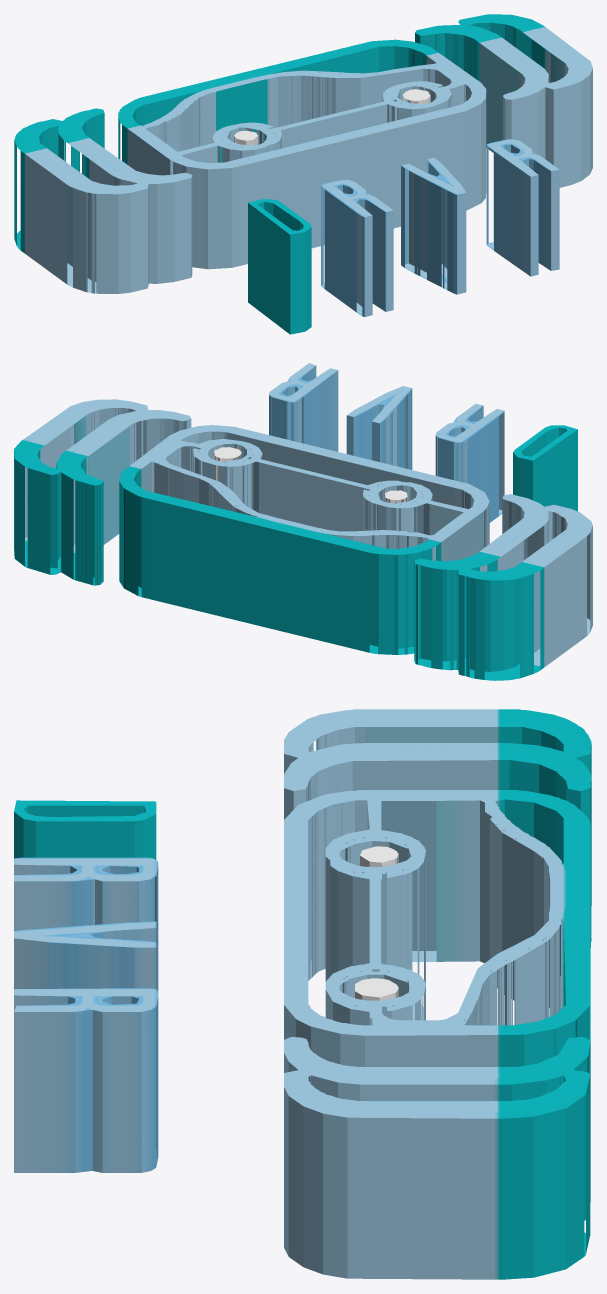
The model's file is rvr (2).fbx.
3 renders of one model, top to bottom at view 1: azimuth 30°, elevation 25°; view 2: azimuth 150°, elevation 25°; view 3: azimuth 270°, elevation 25°, orthographic. The views are drawn at different scales.
Visible parts, largest first — view 1: node_id14 (×2), root (×5); view 2: node_id14 (×2), root (×5); view 3: root (×5), node_id14 (×3).
Boxes of the visible parts, x1,y1,x2,y2 form: node_id14 (×2): (14, 39, 486, 293); root (×5): (248, 14, 592, 334); node_id14 (×2): (119, 425, 592, 680); root (×5): (14, 363, 577, 585); root (×5): (14, 800, 590, 1279); node_id14 (×3): (284, 709, 591, 1081).
Bounding box in the file's own units: 0.512 × 0.0938 × 0.3059.
Materials: 10 (10 with a texture image).
